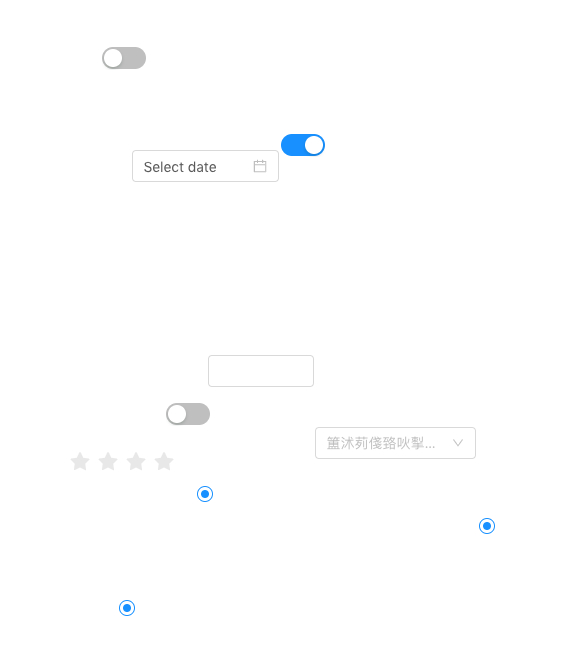DatePicker: (132, 150, 279, 182)
Input: (208, 355, 314, 387)
Radio: (197, 483, 213, 503), (479, 515, 495, 535), (119, 597, 135, 617)
Rate: (70, 445, 190, 477)
Select: (315, 427, 476, 459)
Switch: (102, 46, 146, 70), (281, 133, 325, 157), (166, 402, 210, 426)
